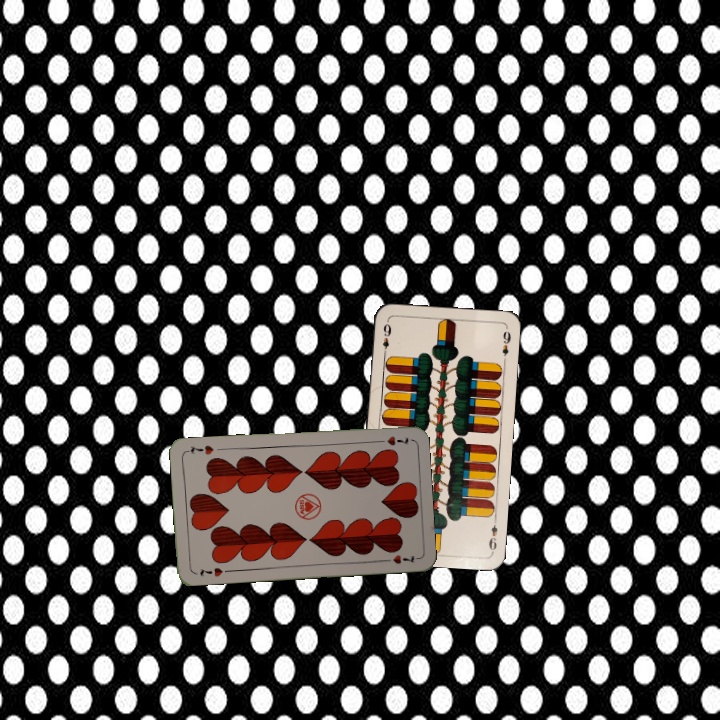E9: (379, 318, 394, 358), (485, 514, 500, 554)
H7: (372, 432, 411, 448), (196, 563, 225, 579)
